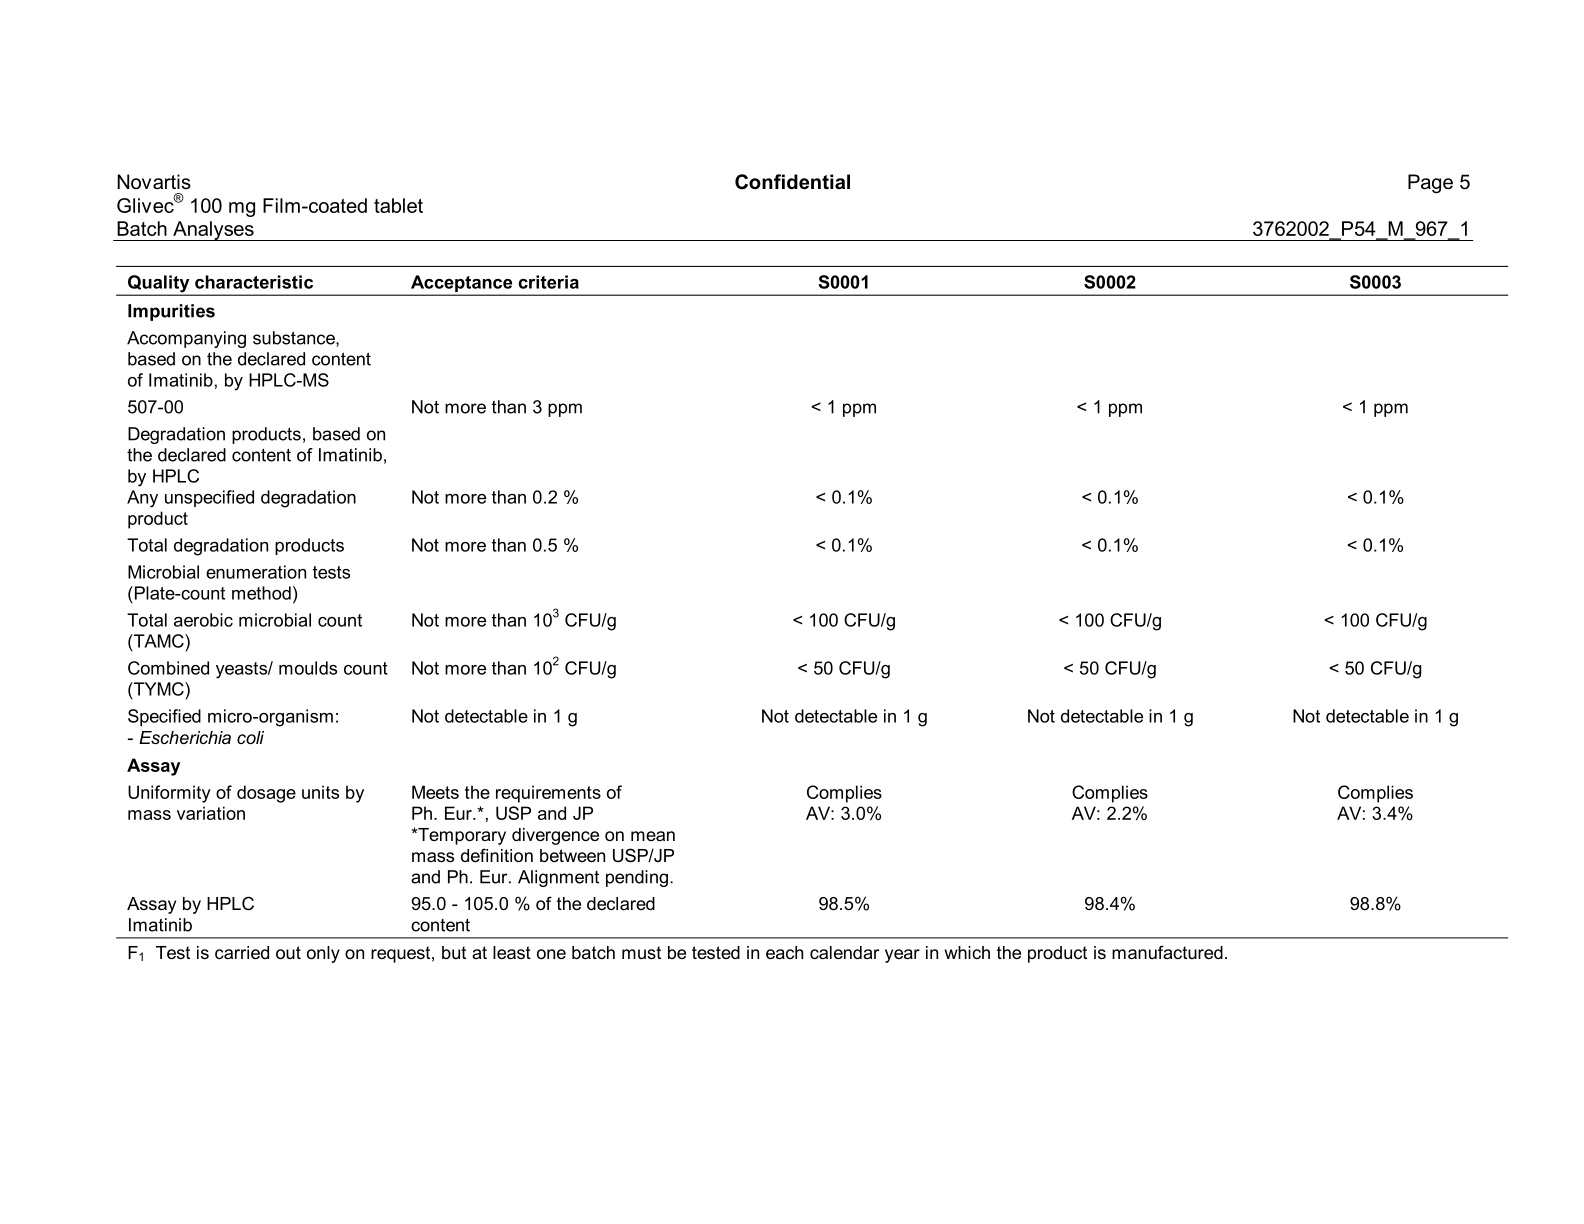partial_lined: (114, 264, 1509, 941)
